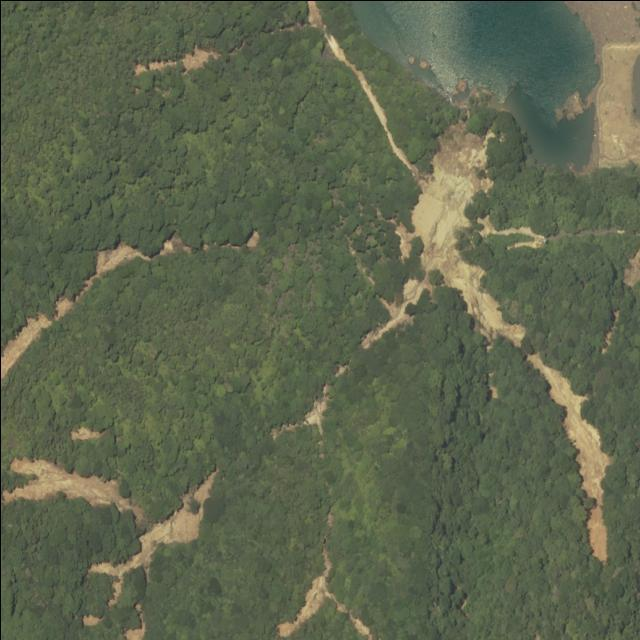landslide: (361, 121, 524, 347), (87, 469, 216, 605), (527, 354, 610, 561), (1, 457, 143, 527), (276, 550, 330, 637), (0, 312, 49, 377), (94, 240, 149, 274)
